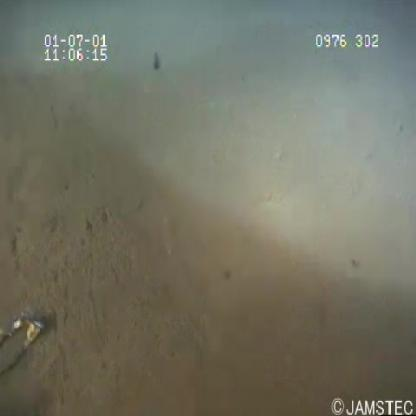Rác: (1, 298, 51, 384)
